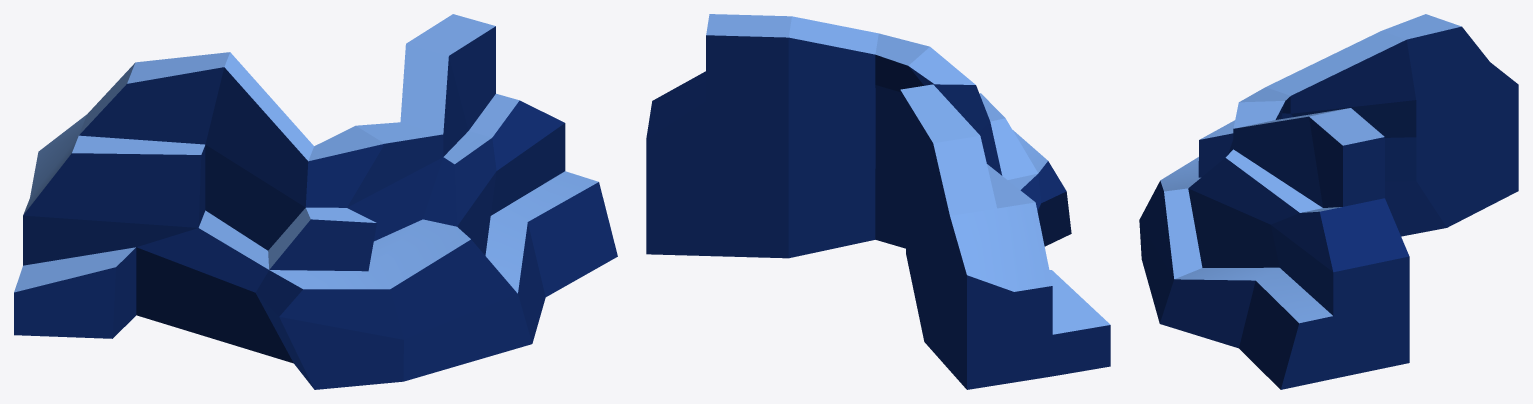
File: Rock_Wall_3.fbx
3 views of the same model, side by side, from view 1: azimuth 30°, elevation 25°; view 2: azimuth 150°, elevation 25°; view 3: azimuth 270°, elevation 25° (orthographic). The views are drawn at different scales.
Visible parts, largest first — view 1: Rock_wall_3; view 2: Rock_wall_3; view 3: Rock_wall_3.
Part boxes in pixels (left/top/right/bottom): Rock_wall_3: left=14, top=14, right=617, bottom=389; Rock_wall_3: left=646, top=14, right=1110, bottom=389; Rock_wall_3: left=1139, top=14, right=1518, bottom=389.
Bounding box in the file's own units: 265 × 110 × 180.
